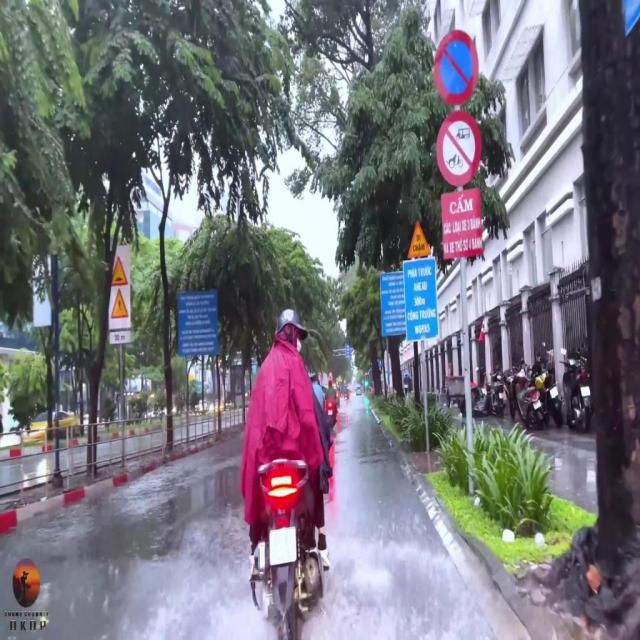cam_cac_loai_xe_3_banh: (438, 108, 482, 187)
cam_do_xe: (434, 28, 478, 106)
chu_y_nguoi_di_bo_cat_ngang: (112, 289, 128, 319)
di_cham: (407, 219, 432, 260)
duong_co_song_map_mo_nhan_tao: (110, 256, 128, 285)
